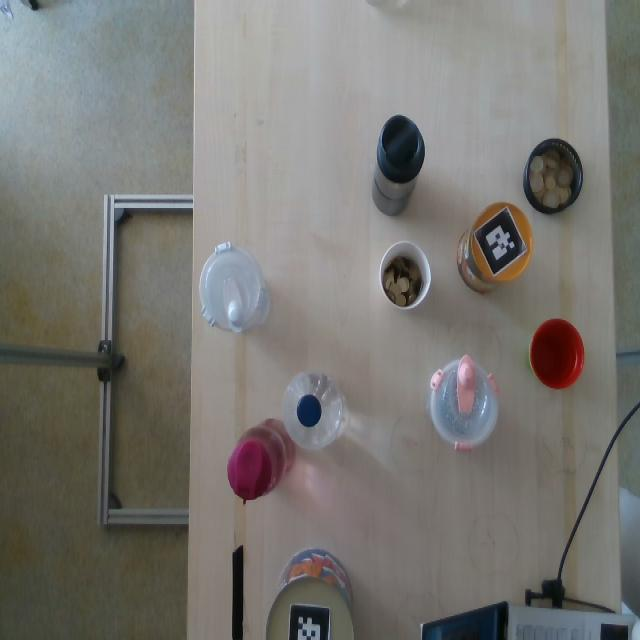cups: (263, 546, 358, 640), (199, 241, 271, 339), (456, 200, 530, 294), (430, 356, 499, 452), (227, 415, 297, 503), (368, 117, 426, 218), (283, 368, 348, 452), (525, 138, 583, 212), (531, 316, 582, 392), (378, 238, 431, 308)
